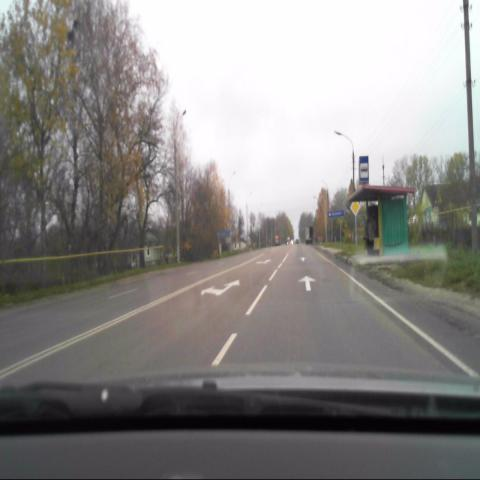5_16: (359, 157, 369, 183)
